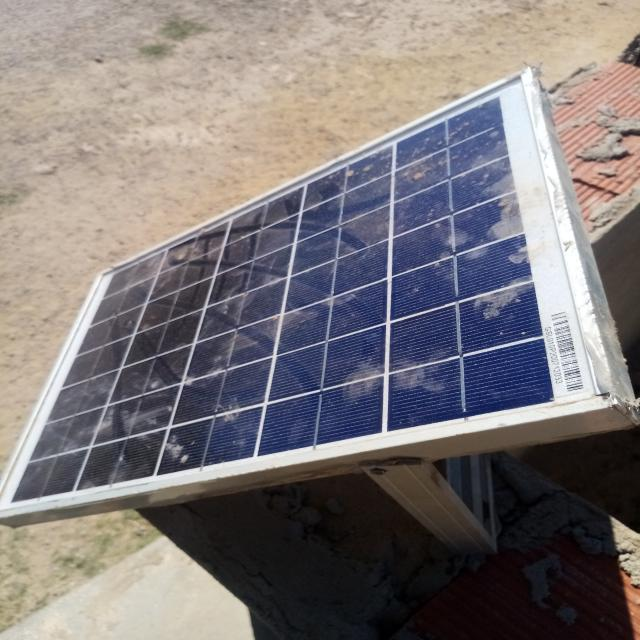faulty: (0, 68, 613, 517)
